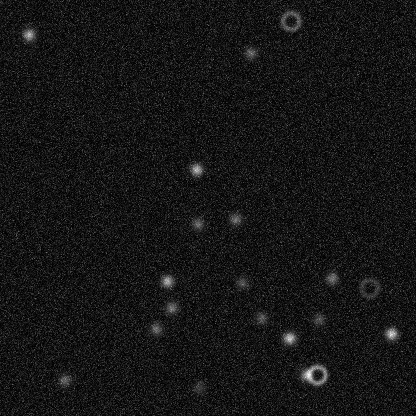Ring: (278, 8, 302, 32), (357, 275, 381, 299), (305, 362, 329, 386)
Spot: (56, 371, 72, 387), (227, 211, 243, 227), (297, 366, 313, 382), (189, 215, 205, 231), (20, 26, 36, 42), (281, 330, 297, 346), (383, 325, 399, 341), (310, 311, 326, 327), (191, 379, 207, 395), (163, 299, 179, 315), (188, 161, 204, 177), (159, 273, 175, 289), (253, 309, 269, 325), (242, 45, 258, 61), (147, 320, 163, 336), (233, 274, 249, 290), (324, 270, 340, 286)
